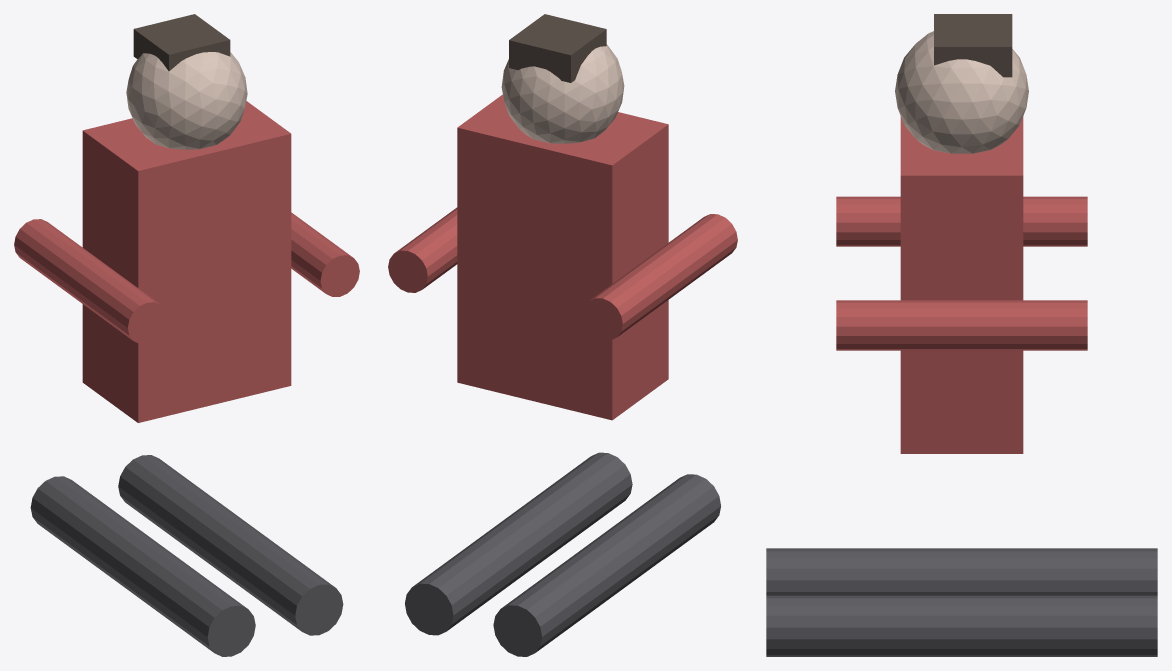
File: persona.glb
3 views of the same model, side by side, from view 1: azimuth 30°, elevation 25°; view 2: azimuth 150°, elevation 25°; view 3: azimuth 270°, elevation 25° (orthographic). The views are drawn at different scales.
Parts seen in each view (by area): view 1: torso, left_leg, right_leg, head, left_arm, right_arm, hair; view 2: torso, left_leg, right_leg, head, left_arm, hair, right_arm; view 3: torso, right_leg, left_leg, right_arm, head, left_arm, hair.
Boxes of the visible parts, x1,y1,x2,y2 form: torso: [82, 101, 291, 422]; left_leg: [30, 476, 255, 656]; right_leg: [118, 455, 343, 635]; head: [126, 52, 247, 149]; left_arm: [14, 219, 167, 343]; right_arm: [291, 212, 359, 296]; hair: [133, 14, 230, 71]; torso: [457, 94, 668, 420]; left_leg: [493, 474, 720, 656]; right_leg: [405, 452, 632, 635]; head: [501, 44, 624, 143]; left_arm: [583, 214, 737, 340]; hair: [509, 14, 606, 82]; right_arm: [388, 207, 457, 292]; torso: [900, 116, 1023, 453]; right_leg: [766, 595, 1157, 656]; left_leg: [766, 548, 1157, 595]; right_arm: [836, 300, 1087, 350]; head: [895, 31, 1028, 153]; left_arm: [836, 196, 1087, 246]; hair: [934, 14, 1012, 77].
Bounding box in the file's own units: 0.53 × 1.19 × 0.7.
